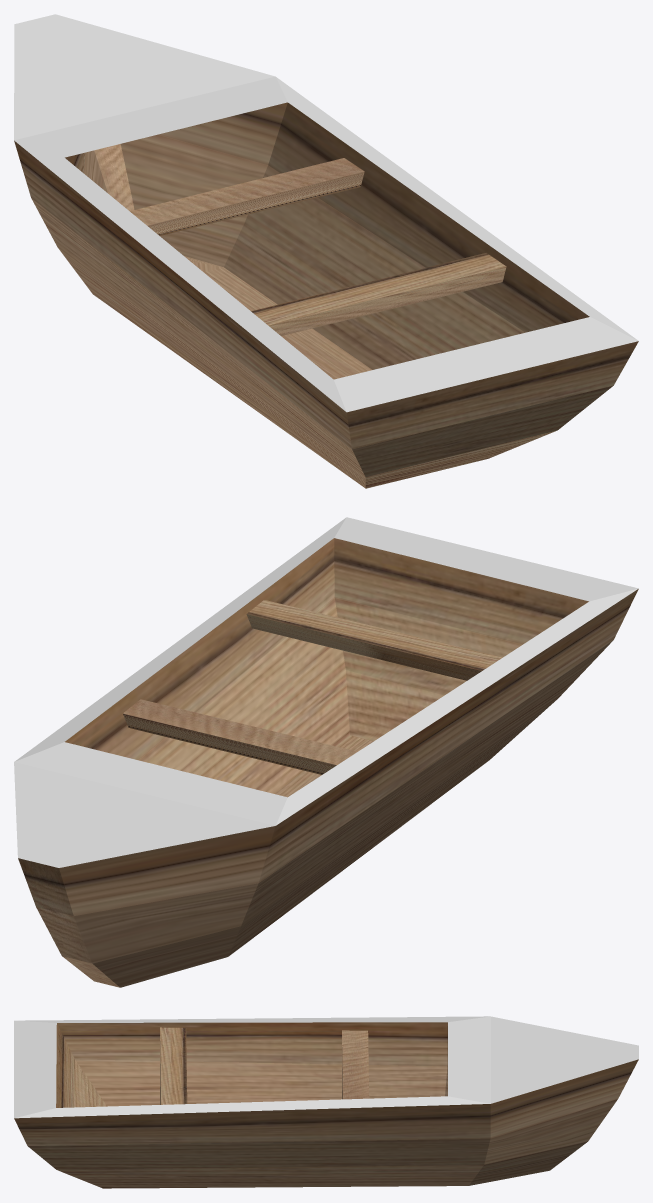
File: Barco 2.fbx
The picture shows the model from 3 angles, top to bottom: view 1: azimuth 30°, elevation 25°; view 2: azimuth 150°, elevation 25°; view 3: azimuth 270°, elevation 25°; orthographic projection. The views are drawn at different scales.
Visible parts, largest first — view 1: Cube, Cubo; view 2: Cube, Cubo; view 3: Cube, Cubo.
Boxes of the visible parts, x1,y1,x2,y2 form: Cube: (14, 14, 638, 488); Cubo: (130, 158, 506, 335); Cube: (14, 517, 638, 987); Cubo: (123, 600, 502, 774); Cube: (14, 1016, 638, 1188); Cubo: (160, 1027, 369, 1104).
Size of the model in its own units: 260 by 143 by 703.
Materials: 2 (1 with a texture image).
